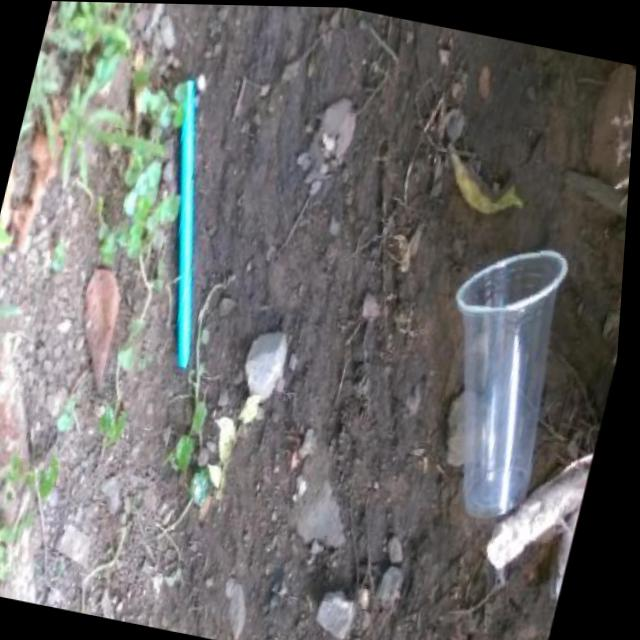plastic: (403, 230, 588, 529), (118, 75, 258, 372)
